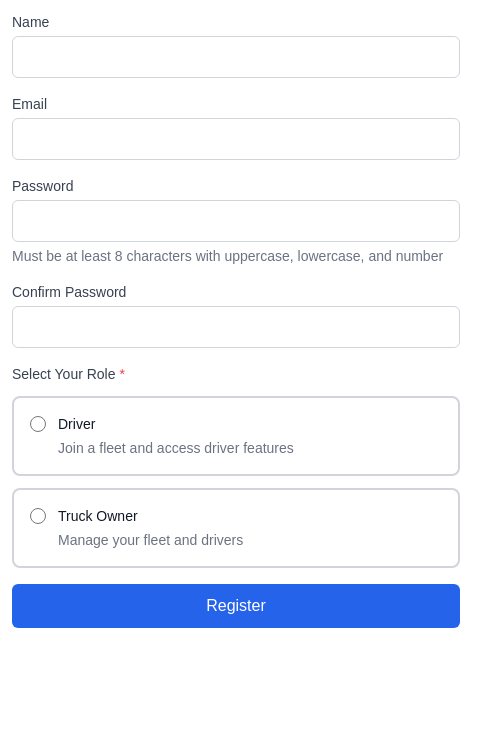
Test: RegisterForm › shows validation errors for empty fields
Click the button "Register" at (236, 606), box [12,584,460,628]
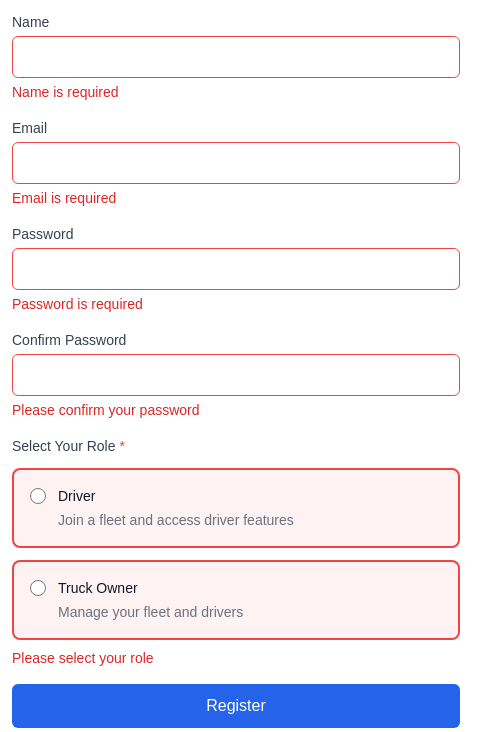
expect the text "Name is required" is shown: met, box [12,84,119,100]
expect the text "Email is required" is shown: met, box [12,190,116,206]
expect the text "Password is required" is shown: met, box [12,296,143,312]
